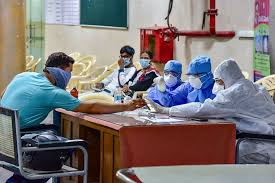mask: (209, 60, 242, 97), (48, 54, 78, 87), (186, 58, 213, 91), (163, 58, 181, 87), (119, 47, 133, 68), (139, 50, 152, 69)
